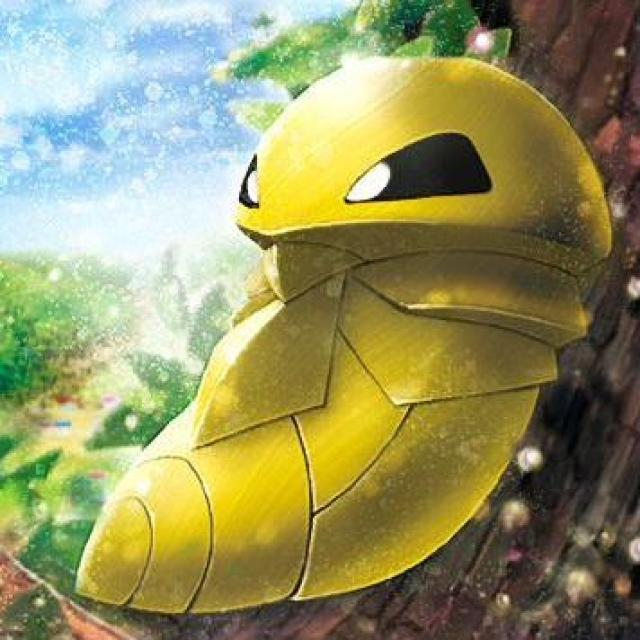Kakuna: (71, 56, 609, 607)
